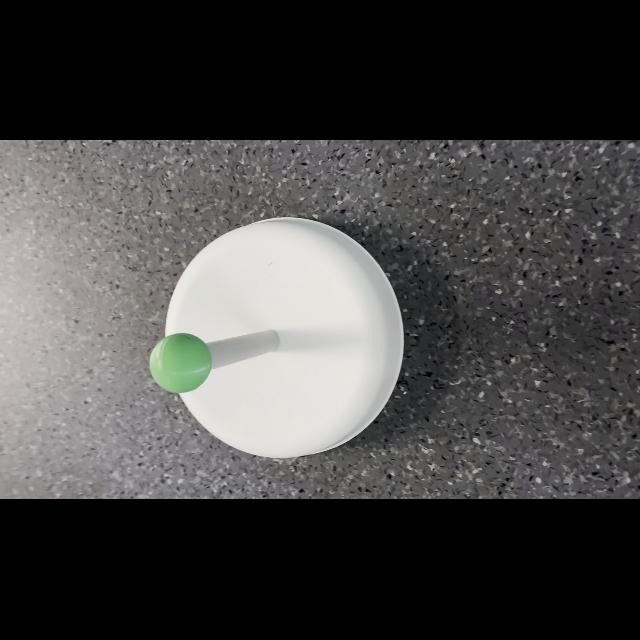objects: (143, 326, 217, 398)
